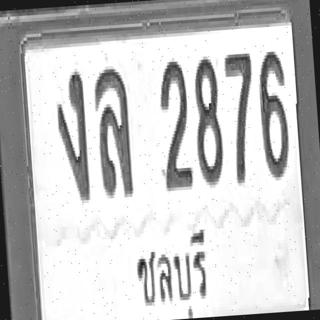A07: (54, 68, 90, 202)
A36: (92, 65, 134, 196)
N02: (156, 58, 193, 191)
N06: (256, 48, 291, 178)
N07: (223, 50, 259, 183)
N08: (190, 56, 225, 186)
P13: (126, 219, 218, 320)
